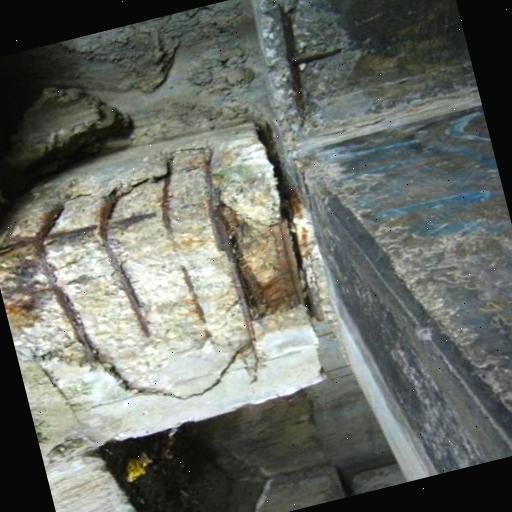spalling: (0, 136, 260, 399)
